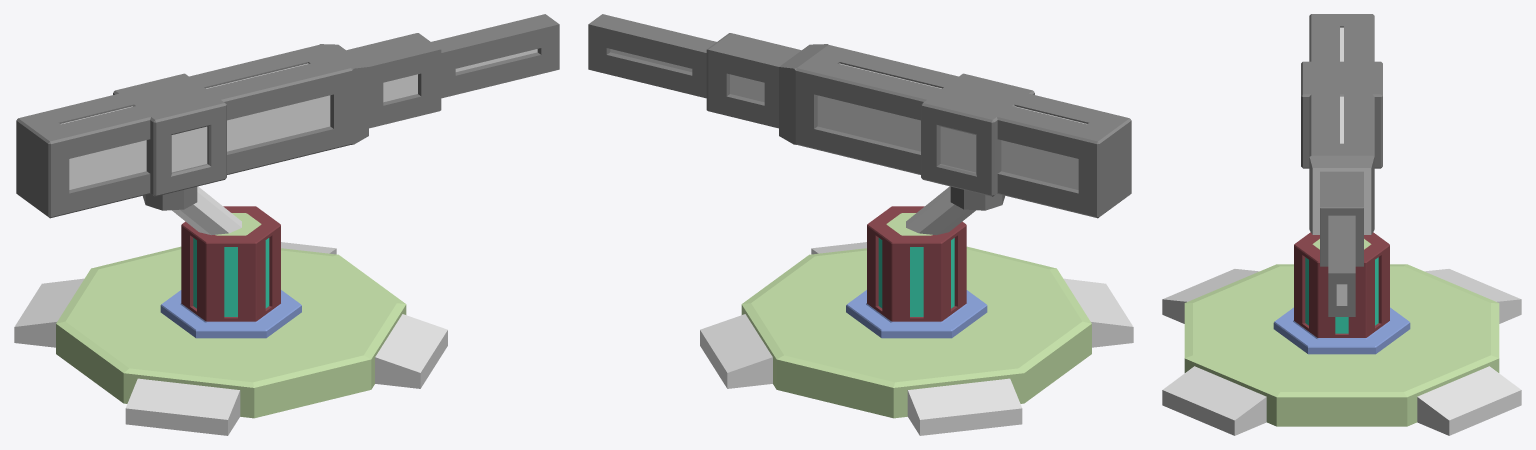
Rendered from Railgun_TD_5.fbx.
3 renders of one model, left to right at view 1: azimuth 30°, elevation 25°; view 2: azimuth 150°, elevation 25°; view 3: azimuth 270°, elevation 25°, orthographic. The views are drawn at different scales.
Visible parts, largest first — view 1: Cylinder.002, Cube.001; view 2: Cylinder.002, Cube.001; view 3: Cylinder.002, Cube.001.
Part boxes in pixels (x1,y1,x2,y2): Cylinder.002: (14,206,447,435); Cube.001: (16,14,559,235); Cylinder.002: (700,206,1133,435); Cube.001: (588,14,1131,235); Cylinder.002: (1162,232,1521,435); Cube.001: (1301,14,1382,316).
Size of the model in its own units: 1700 by 820 by 1054.
